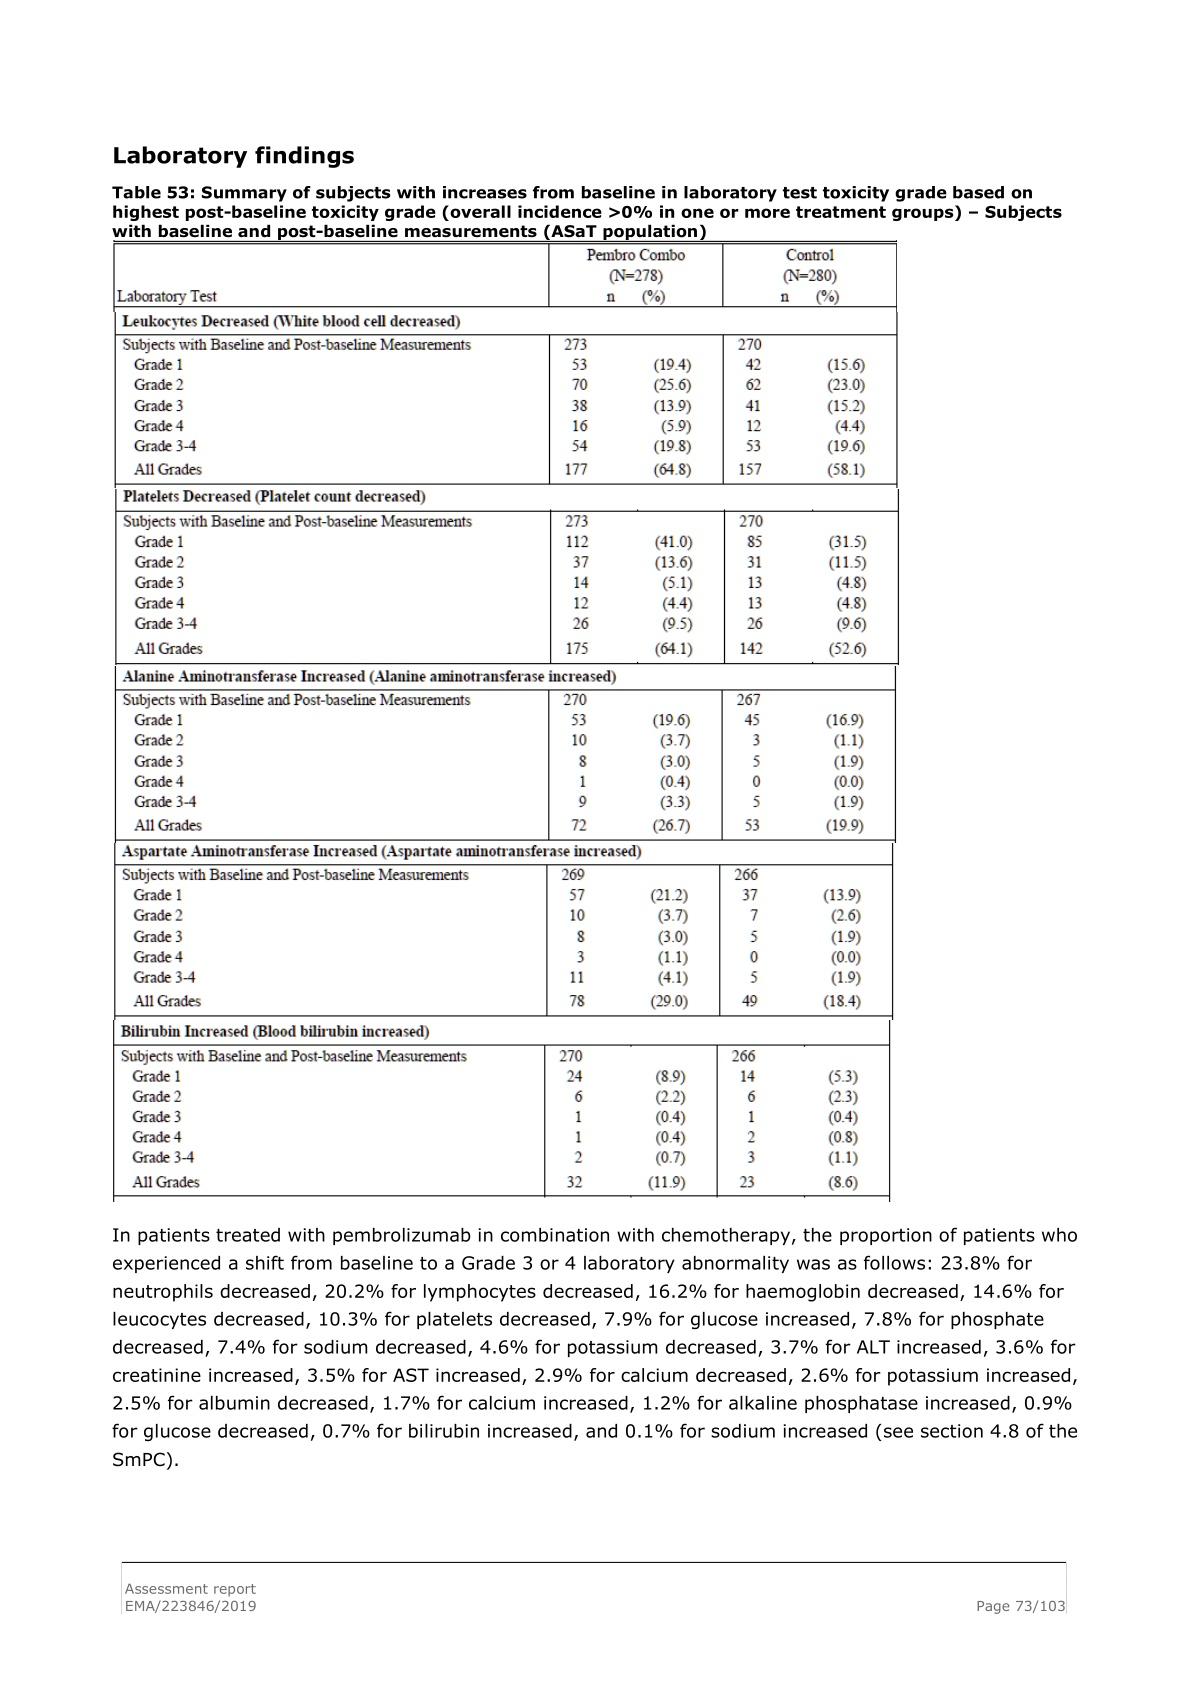merged_cells: (111, 240, 902, 1203)
